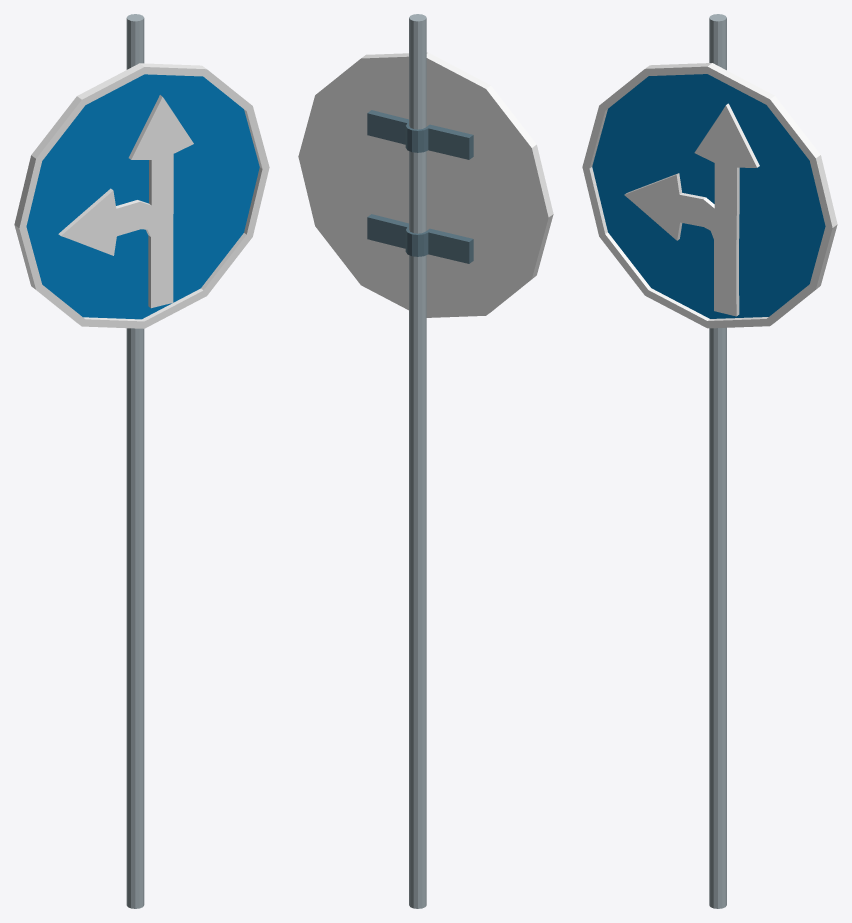
File: pilar_road_forvard_left.fbx
3 views of the same model, side by side, from view 1: azimuth 30°, elevation 25°; view 2: azimuth 150°, elevation 25°; view 3: azimuth 330°, elevation 25° (orthographic).
Parts seen in each view (by area): view 1: road_forvard_left_2.001, pilar; view 2: road_forvard_left_2.001, pilar; view 3: road_forvard_left_2.001, pilar.
Boxes of the visible parts, left/top/right/bottom form: road_forvard_left_2.001: left=14, top=63, right=269, bottom=328; pilar: left=126, top=14, right=144, bottom=908; road_forvard_left_2.001: left=298, top=52, right=553, bottom=317; pilar: left=367, top=14, right=473, bottom=908; road_forvard_left_2.001: left=582, top=63, right=837, bottom=328; pilar: left=709, top=14, right=726, bottom=908.
Size of the model in its own units: 94.84 by 321 by 10.43.
